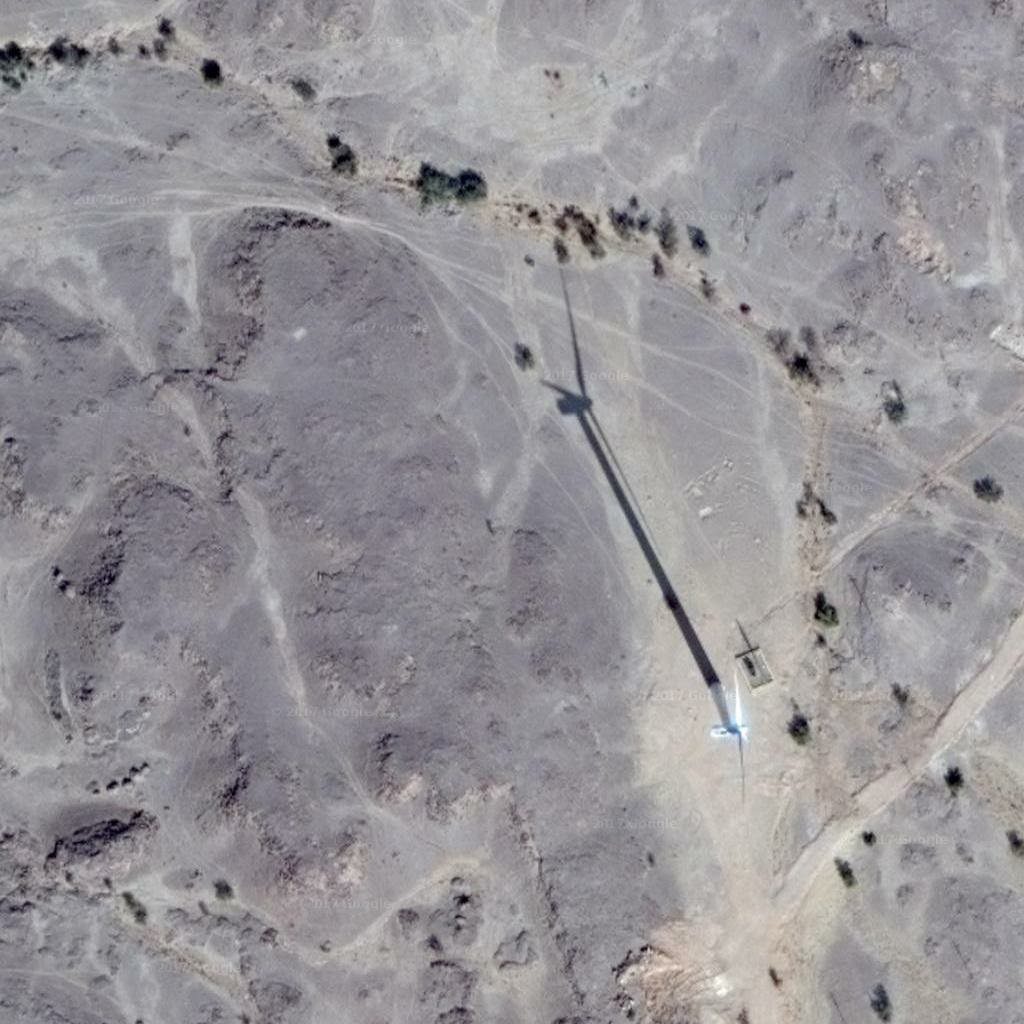Windmill: (516, 271, 725, 678)
